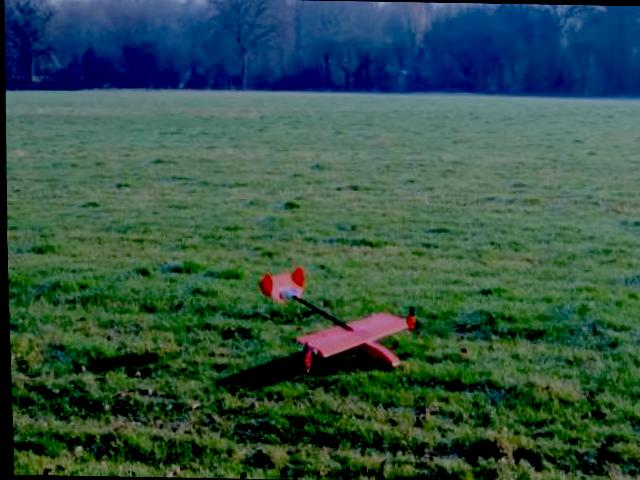uav: (255, 255, 402, 382)
